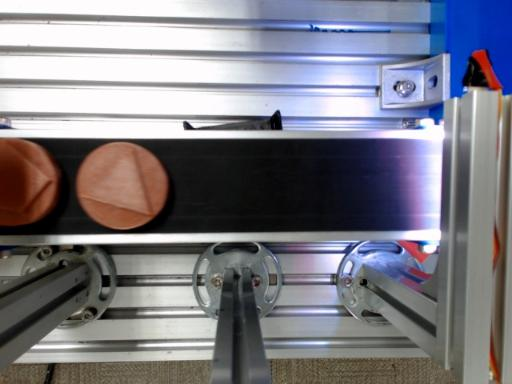Brown_Waper: (76, 142, 168, 229), (0, 138, 62, 226)
